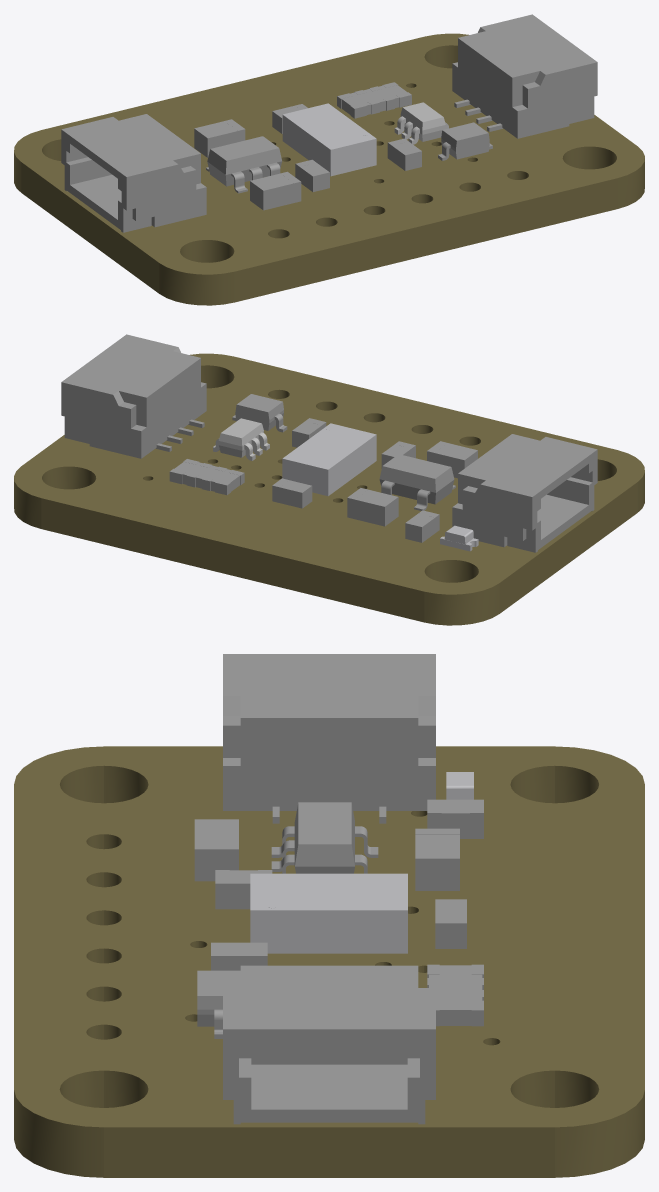
Rendered from ada-5396.glb.
3 views of the same model, one above another, from view 1: azimuth 30°, elevation 25°; view 2: azimuth 150°, elevation 25°; view 3: azimuth 270°, elevation 25° (orthographic). The views are drawn at different scales.
Visible parts, largest first — view 1: 0.16666666666666666_0.16666666666666666_0.08333333333333333_, 0.3333333333333333_0.3333333333333333_0.3333333333333333_0, 0.5833333333333334_0.5833333333333334_0.5833333333333334_0.8, 0.5_0.5_0.5_0.85; view 2: 0.16666666666666666_0.16666666666666666_0.08333333333333333_, 0.3333333333333333_0.3333333333333333_0.3333333333333333_0, 0.5833333333333334_0.5833333333333334_0.5833333333333334_0.8, 0.5_0.5_0.5_0.85; view 3: 0.16666666666666666_0.16666666666666666_0.08333333333333333_, 0.3333333333333333_0.3333333333333333_0.3333333333333333_0, 0.5833333333333334_0.5833333333333334_0.5833333333333334_0.8.
Part boxes in pixels (x1,y1,x2,y2): 0.16666666666666666_0.16666666666666666_0.08333333333333333_: (14,33,644,305); 0.3333333333333333_0.3333333333333333_0.3333333333333333_0: (61,14,597,232); 0.5833333333333334_0.5833333333333334_0.5833333333333334_0.8: (282,103,376,176); 0.5_0.5_0.5_0.85: (394,102,448,144); 0.16666666666666666_0.16666666666666666_0.08333333333333333_: (14,353,644,625); 0.3333333333333333_0.3333333333333333_0.3333333333333333_0: (61,334,597,552); 0.5833333333333334_0.5833333333333334_0.5833333333333334_0.8: (282,423,478,551); 0.5_0.5_0.5_0.85: (213,418,269,460); 0.16666666666666666_0.16666666666666666_0.08333333333333333_: (14,746,644,1177); 0.3333333333333333_0.3333333333333333_0.3333333333333333_0: (194,654,483,1124); 0.5833333333333334_0.5833333333333334_0.5833333333333334_0.8: (250,772,473,953).
Bounding box in the file's own units: 2.54 × 0.4529 × 1.78.
